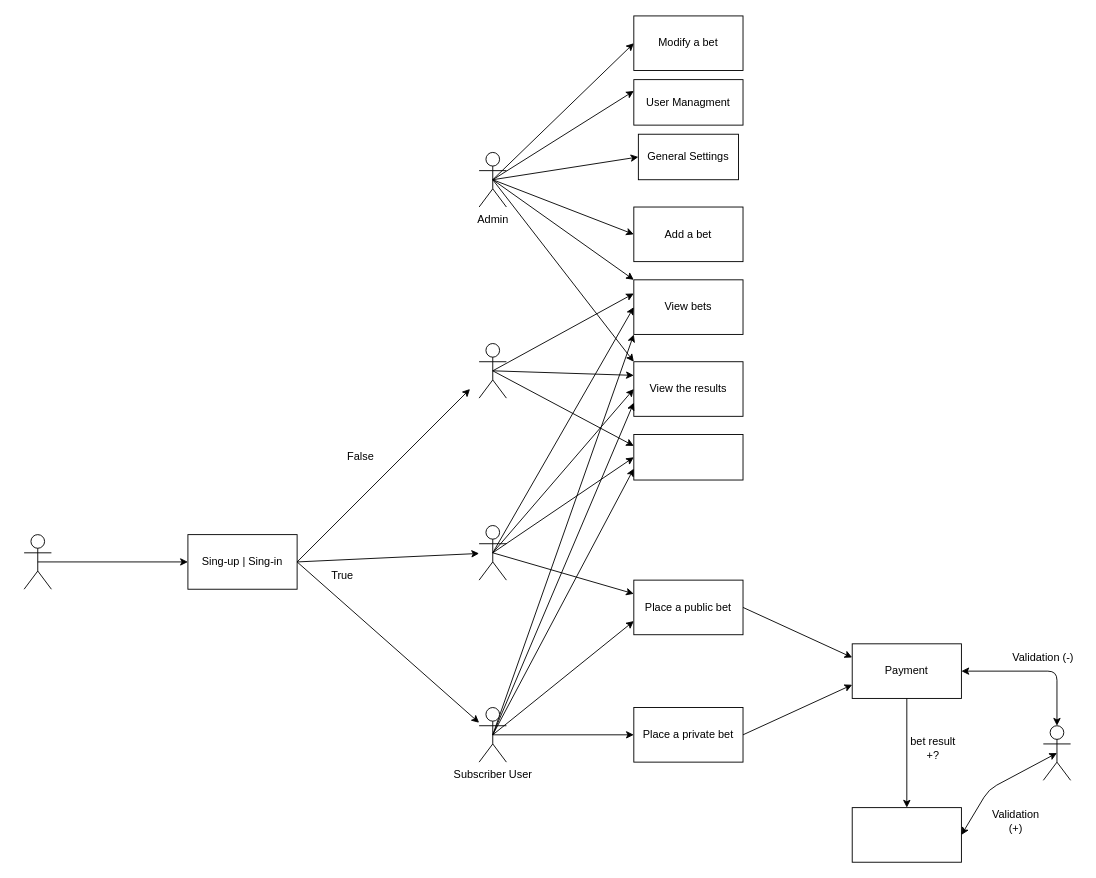
Image size: 1096x878. Some labels were removed from this diagram. Each missing label, with the centre of its shape:
Any User: (x=37, y=561)
Bank: (x=1056, y=752)
Guest User: (x=492, y=370)
Modify Profile: (x=688, y=457)
Pay according to the outcome of the bet: (x=906, y=834)
Register User: (x=492, y=552)
